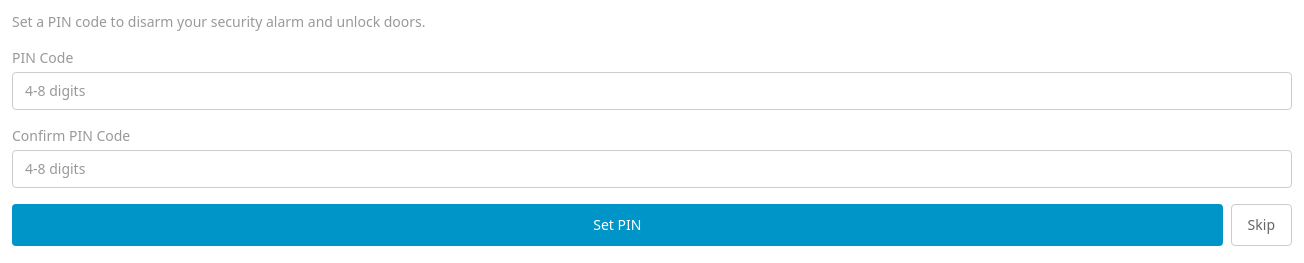
Test: ChangePinForm – validation › strips non-digit characters from input
Type "12ab34" into the password field labelled "PIN Code" at (652, 91), box [12,72,1292,110]
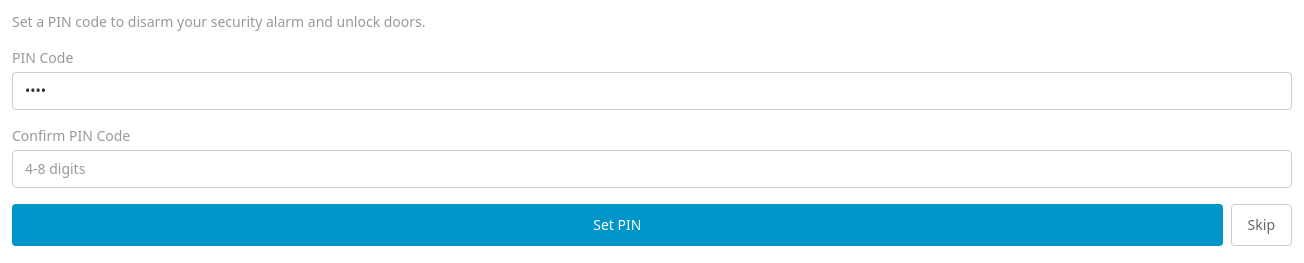
Expected: the password field labelled "PIN Code" holds "1234", [12,72,1292,110]
